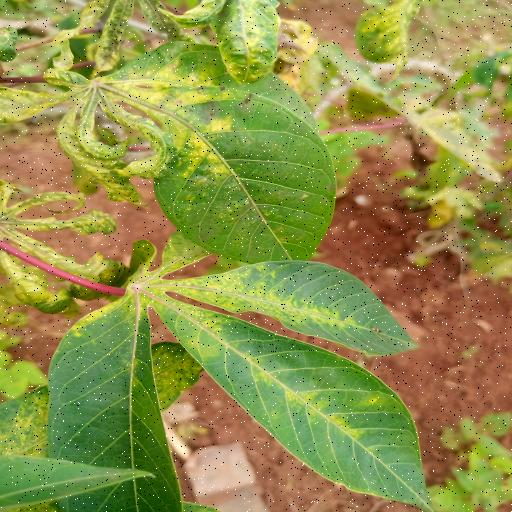Cassava_Mosaic: (40, 220, 432, 512)
